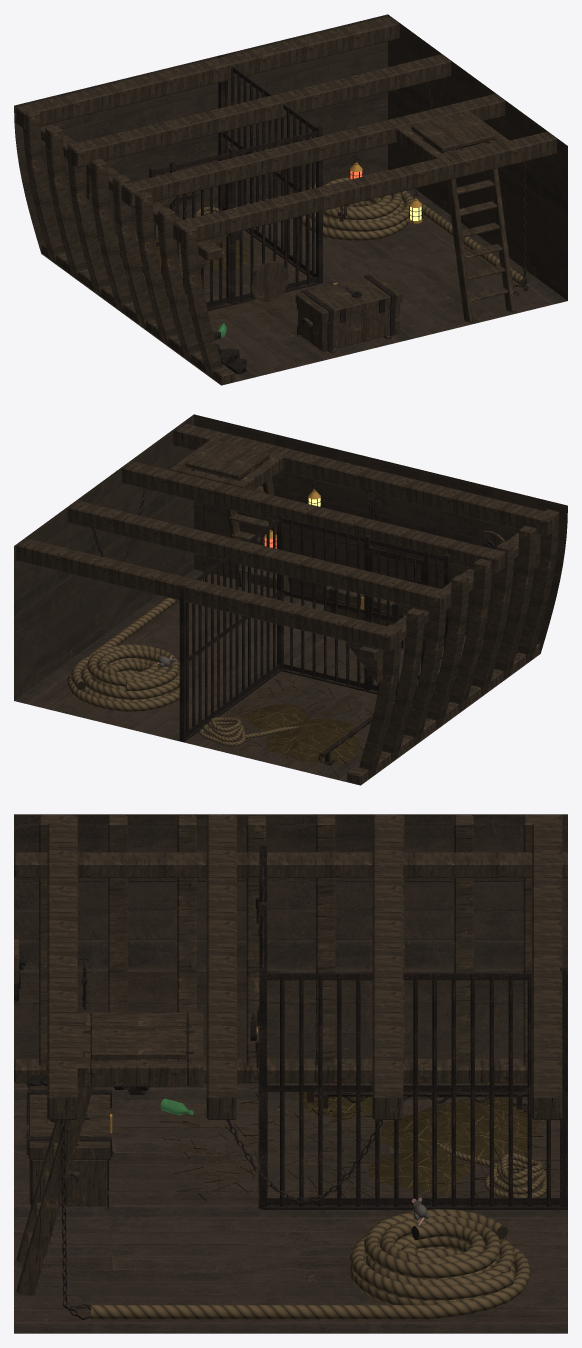
The model's file is kobka.glb.
The picture shows the model from 3 angles, top to bottom: view 1: azimuth 30°, elevation 25°; view 2: azimuth 150°, elevation 25°; view 3: azimuth 270°, elevation 25°; orthographic projection. The views are drawn at different scales.
Parts seen in each view (by area): view 1: kobka_konstrukce, kobka_shell, kobka_mrize, kobka_zebrik, kobka_truhla, kobka_kotevni_lano, kobka_slama, kobka_dvere, kobka_retezy, kobka_kameny; view 2: kobka_konstrukce, kobka_shell, kobka_mrize, kobka_kotevni_lano, kobka_slama, kobka_zebrik, kobka_dvere, kobka_lano, kobka_truhla, kobka_retezy; view 3: kobka_shell, kobka_konstrukce, kobka_mrize, kobka_kotevni_lano, kobka_slama, kobka_zebrik, kobka_truhla, kobka_lano, kobka_retezy, kobka_okovy.
Boxes of the visible parts, x1,y1,x2,y2 form: kobka_konstrukce: [15, 16, 556, 384]; kobka_shell: [14, 14, 567, 385]; kobka_mrize: [149, 55, 322, 315]; kobka_zebrik: [411, 113, 515, 322]; kobka_truhla: [295, 274, 402, 353]; kobka_kotevni_lano: [298, 177, 527, 286]; kobka_slama: [102, 230, 305, 329]; kobka_dvere: [176, 183, 230, 311]; kobka_retezy: [181, 82, 529, 295]; kobka_kameny: [213, 331, 246, 374]; kobka_konstrukce: [16, 423, 559, 784]; kobka_shell: [14, 414, 567, 785]; kobka_mrize: [178, 513, 450, 742]; kobka_kotevni_lano: [67, 597, 179, 711]; kobka_slama: [219, 652, 420, 777]; kobka_zebrik: [185, 440, 289, 597]; kobka_dvere: [369, 546, 423, 699]; kobka_lano: [199, 717, 307, 746]; kobka_truhla: [323, 586, 404, 648]; kobka_retezy: [92, 471, 443, 658]; kobka_shell: [14, 814, 567, 1333]; kobka_konstrukce: [14, 814, 567, 1119]; kobka_mrize: [256, 842, 567, 1209]; kobka_kotevni_lano: [91, 1209, 530, 1319]; kobka_slama: [160, 1081, 559, 1201]; kobka_zebrik: [16, 1013, 193, 1295]; kobka_truhla: [26, 1086, 114, 1208]; kobka_lano: [431, 1140, 546, 1197]; kobka_retezy: [60, 958, 382, 1319]; kobka_okovy: [307, 1092, 527, 1113].
Size of the model in its own units: 4.82 by 1.96 by 4.
Materials: 17 (7 with a texture image).
